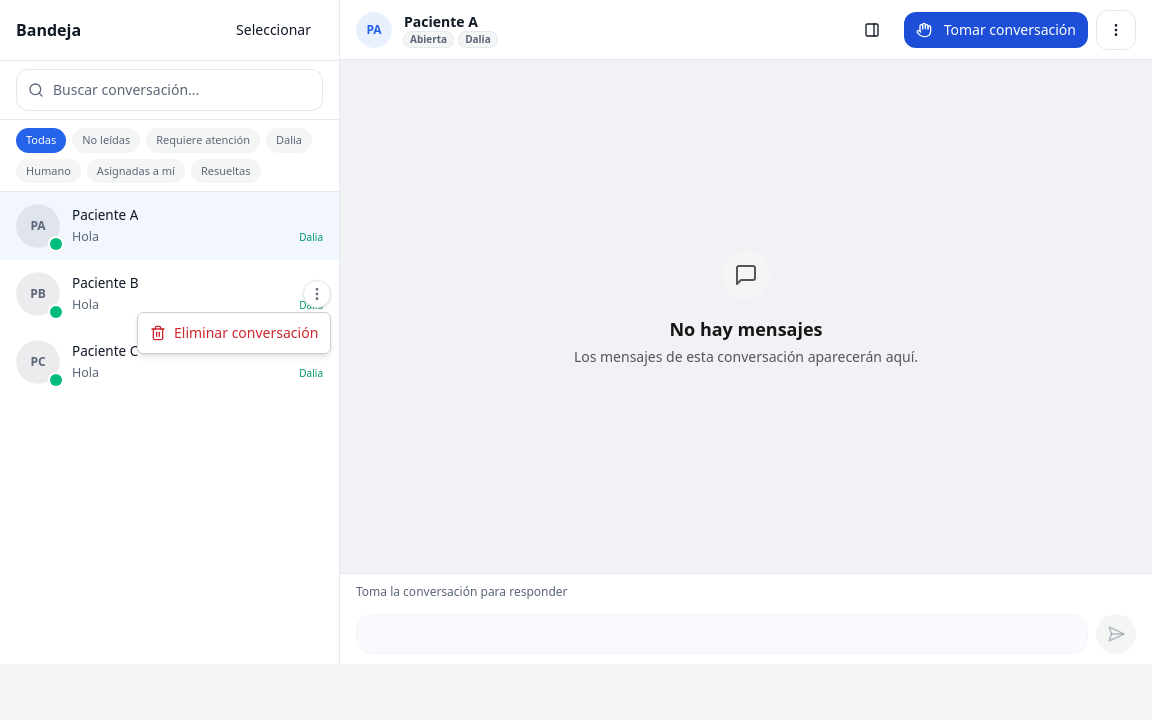
Test: Eliminar conversaciones en la Bandeja › elimina una desde el menú de su fila, tras confirmar, y la quita de la lista
Earlier steps of the test are not shown.
Later steps or results of the test are not shown.
Click the menu item "Eliminar conversación" at (234, 332), box [150,323,318,342]
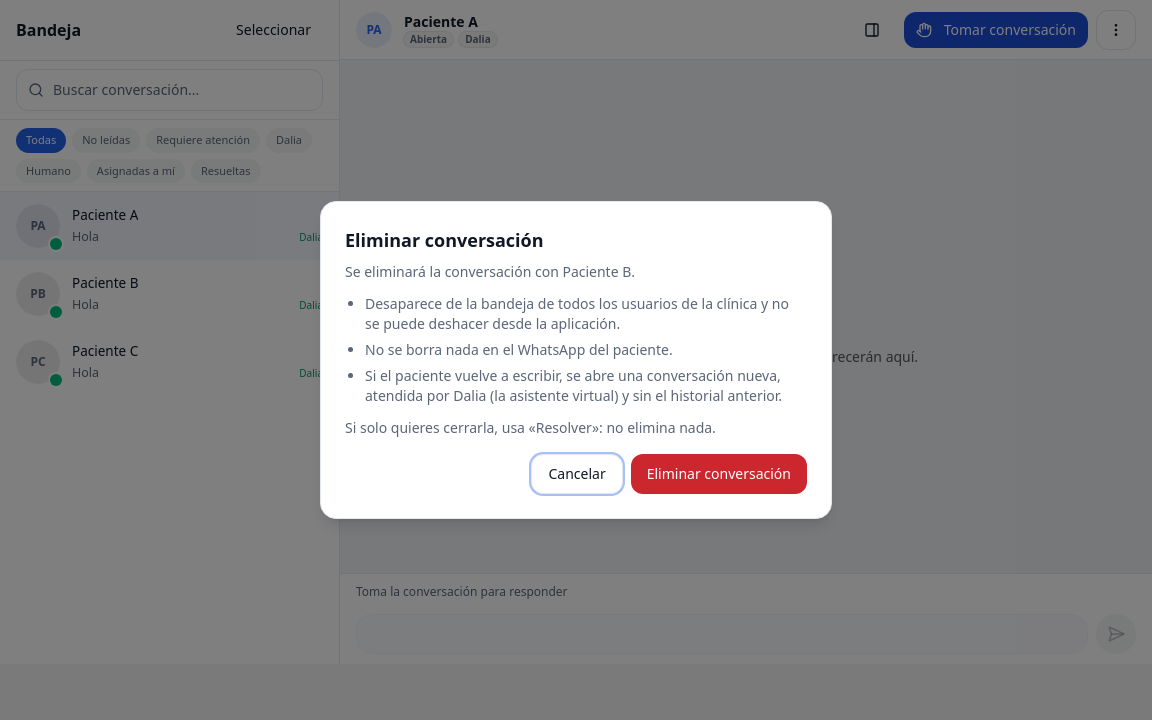
Check: the text "Se eliminará la conversación con Paciente B." is shown, box [345,262,635,281]
